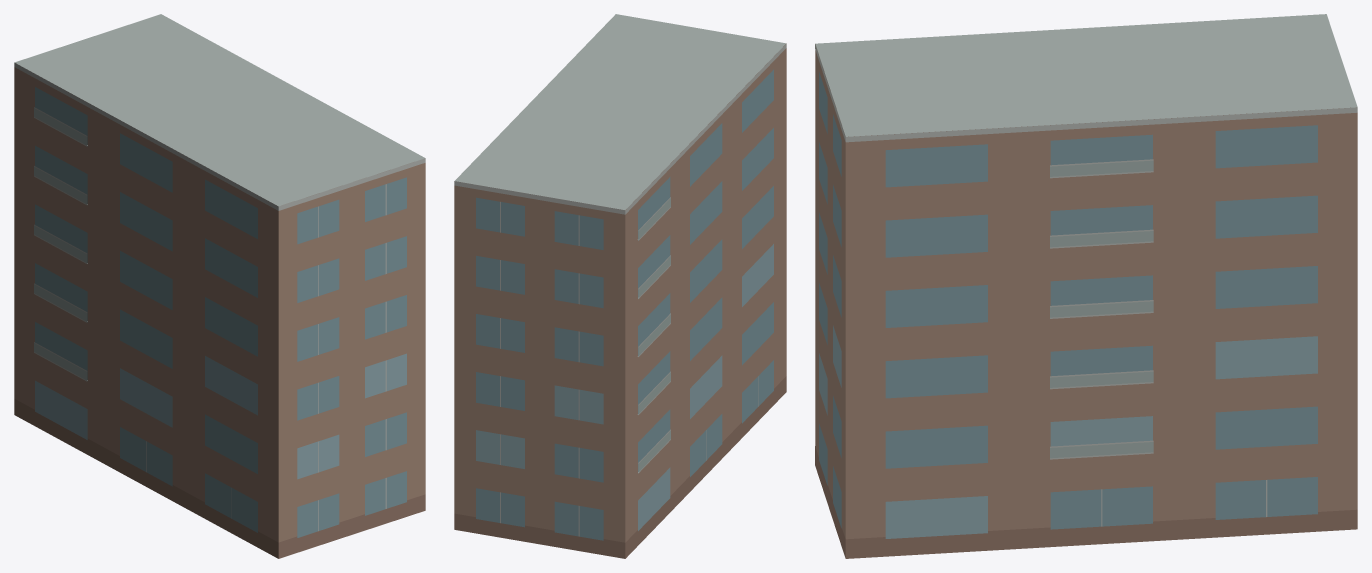
Rendered from survey-upis-32912774.glb.
The picture shows the model from 3 angles, left to right: view 1: azimuth 30°, elevation 25°; view 2: azimuth 150°, elevation 25°; view 3: azimuth 270°, elevation 25°; orthographic projection. The views are drawn at different scales.
Visible parts, largest first — view 1: survey-upis-32912774.tmp; view 2: survey-upis-32912774.tmp; view 3: survey-upis-32912774.tmp.
Part boxes in pixels (x1,y1,x2,y2): survey-upis-32912774.tmp: (14,14,425,558); survey-upis-32912774.tmp: (454,14,786,558); survey-upis-32912774.tmp: (815,14,1357,558).
Size of the model in its own units: 11.88 by 19 by 22.15.
